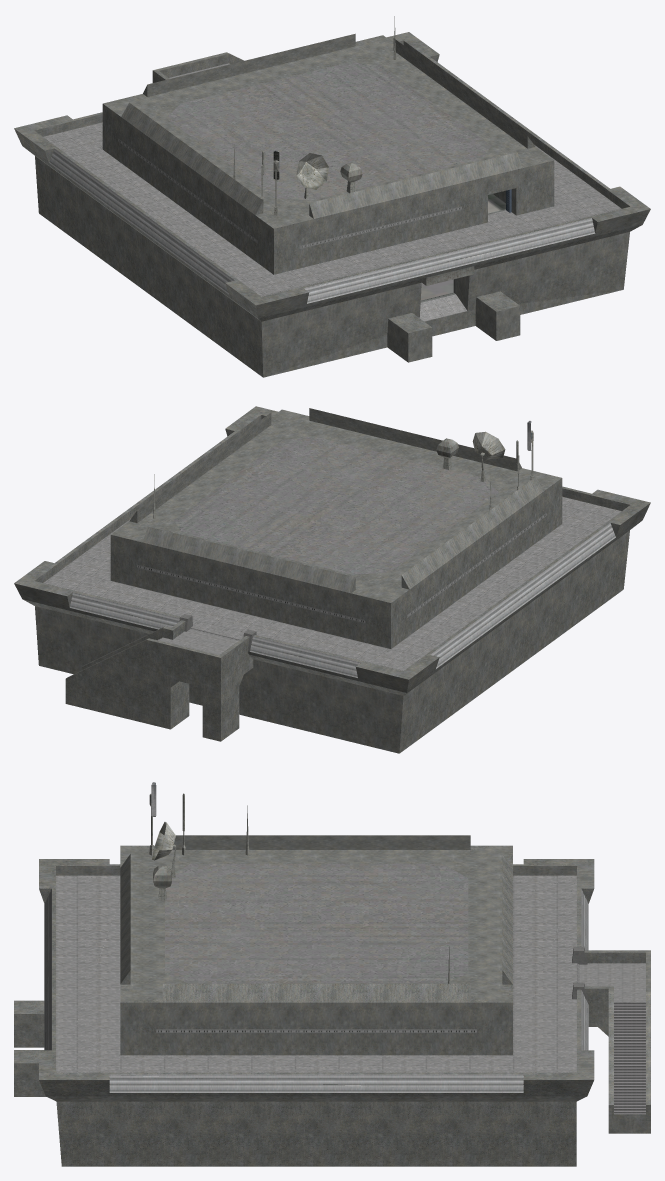
Rendered from mun_all_military_base_police_station_impl_s01_r0_mesh_l1_r0.fbx.
The picture shows the model from 3 angles, top to bottom: view 1: azimuth 30°, elevation 25°; view 2: azimuth 150°, elevation 25°; view 3: azimuth 270°, elevation 25°; orthographic projection. The views are drawn at different scales.
Parts seen in each view (by area): view 1: mesh_node; view 2: mesh_node; view 3: mesh_node.
Boxes of the visible parts, bbox=[...] form: mesh_node: bbox=[14, 16, 650, 377]; mesh_node: bbox=[14, 406, 650, 753]; mesh_node: bbox=[14, 782, 650, 1166].
Size of the model in its own units: 49.31 by 22.07 by 60.
